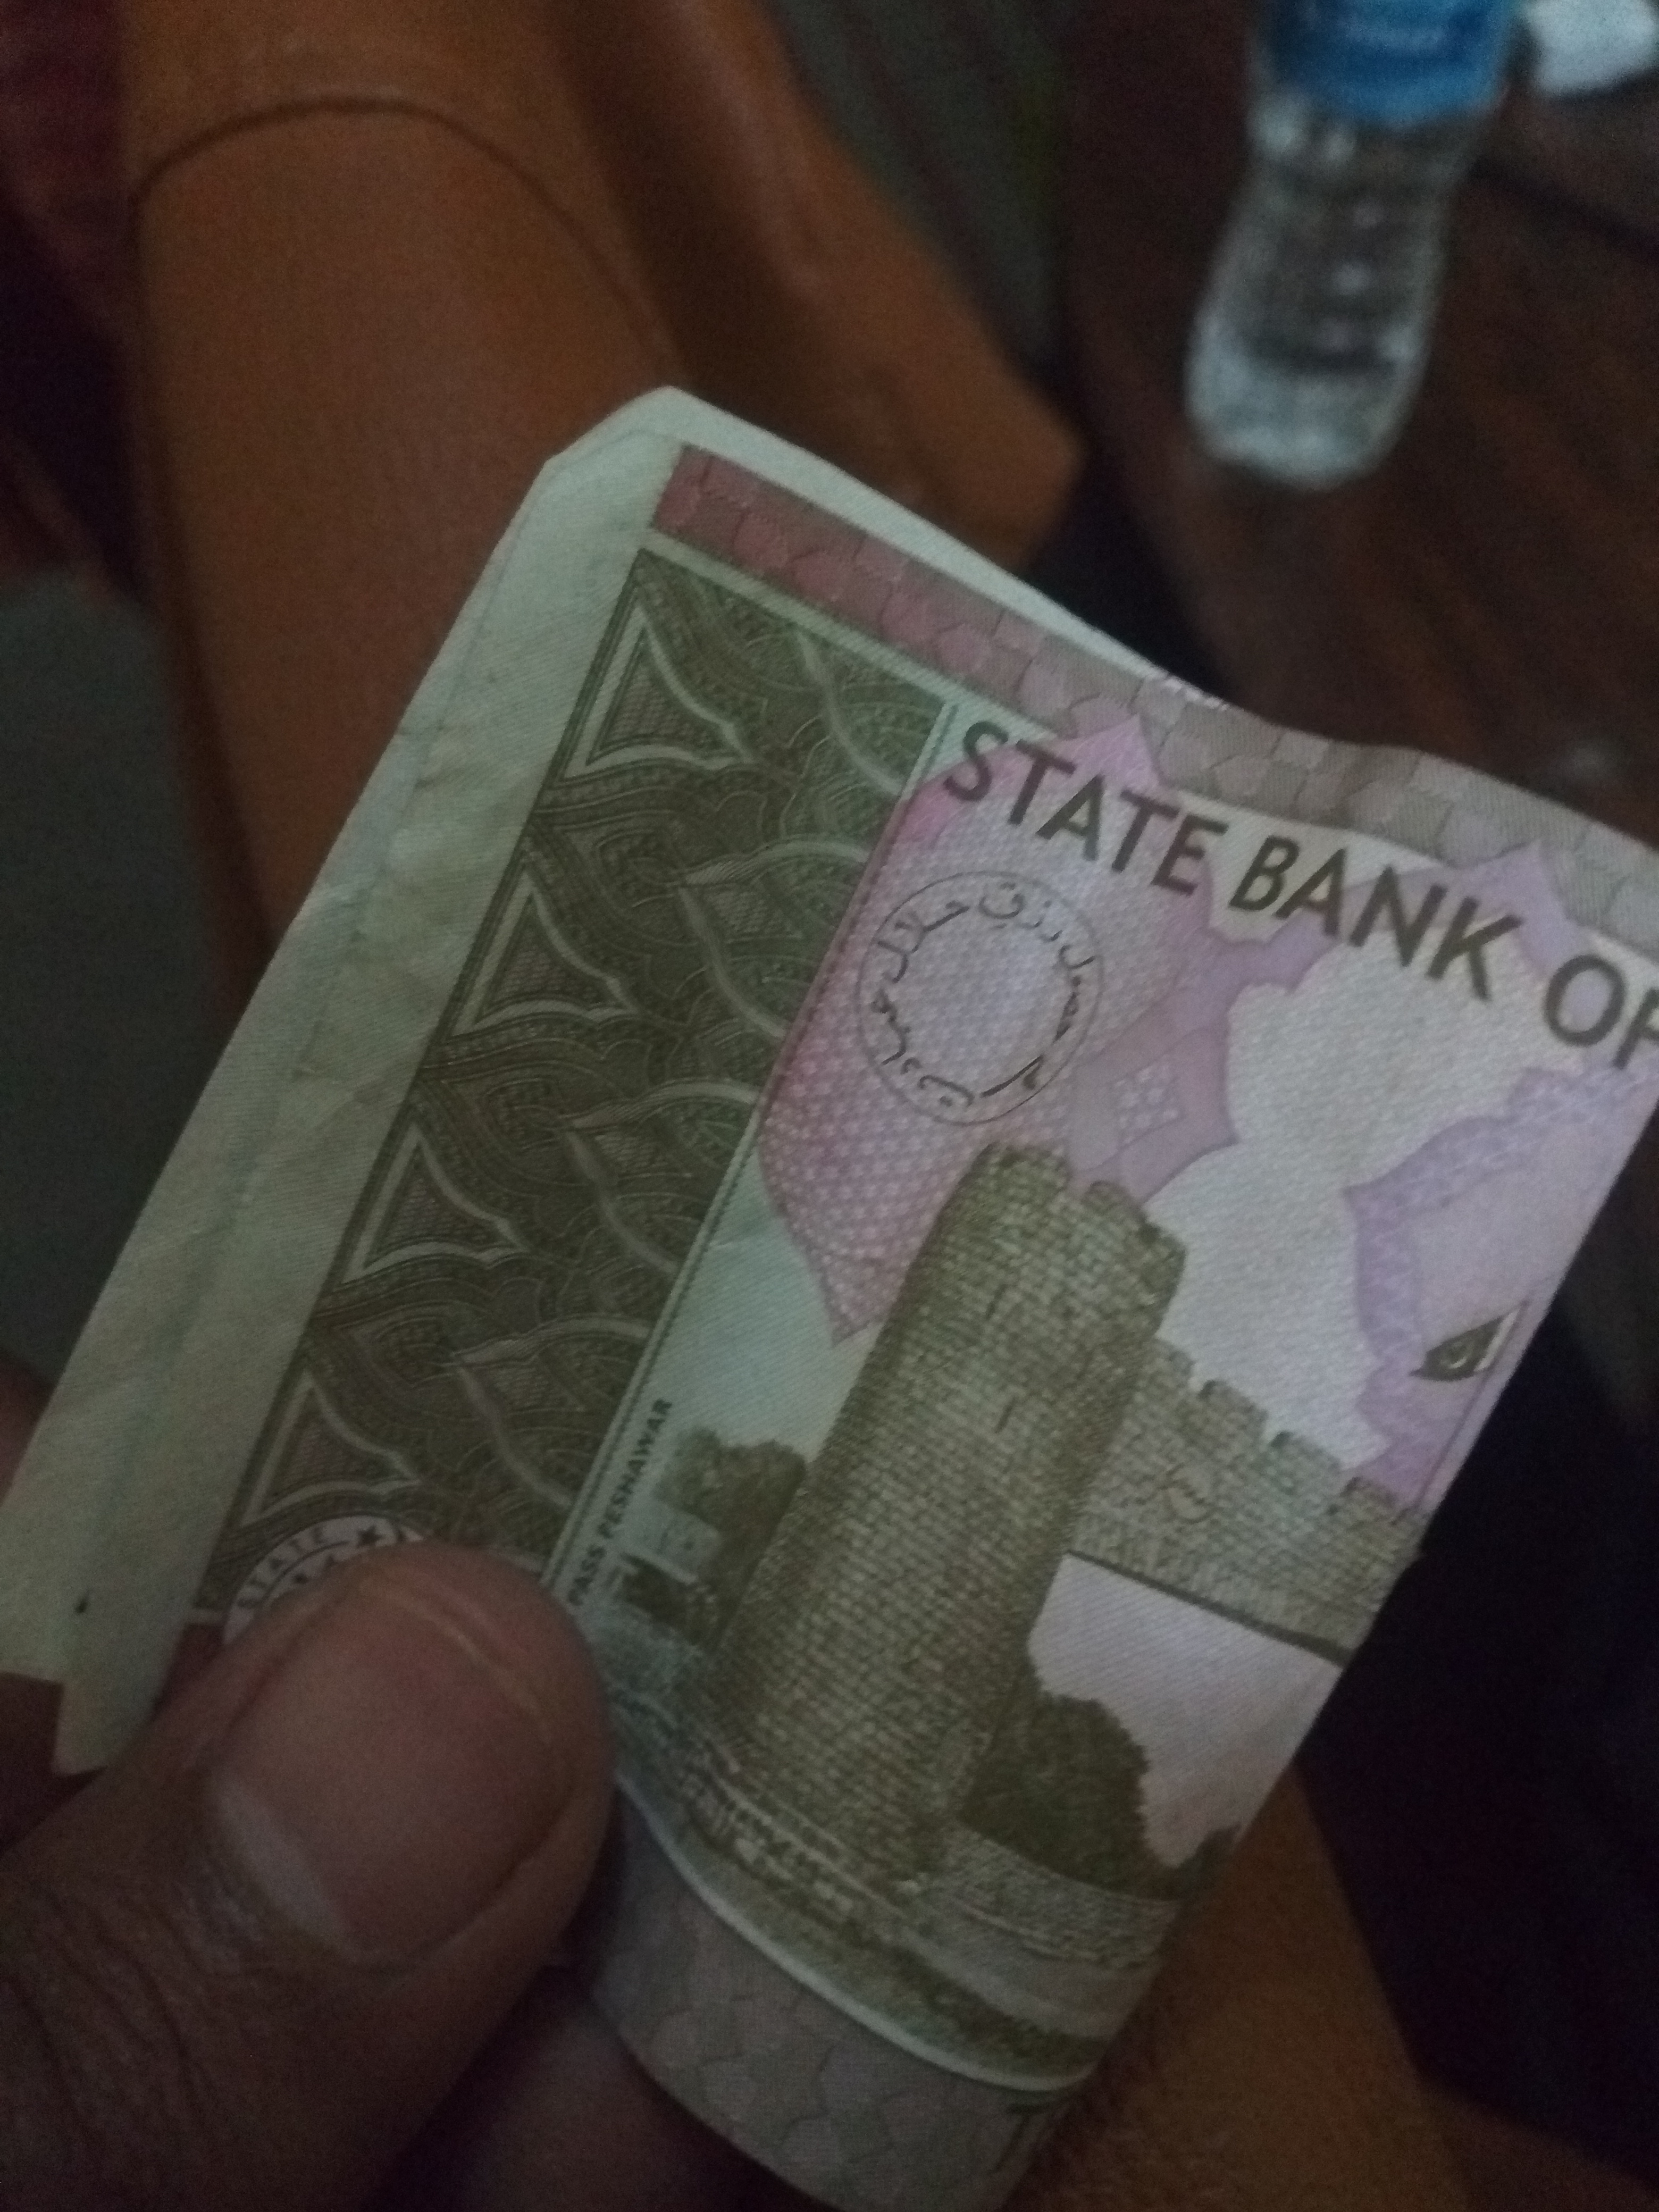10 rupee: (24, 357, 1649, 2193)
